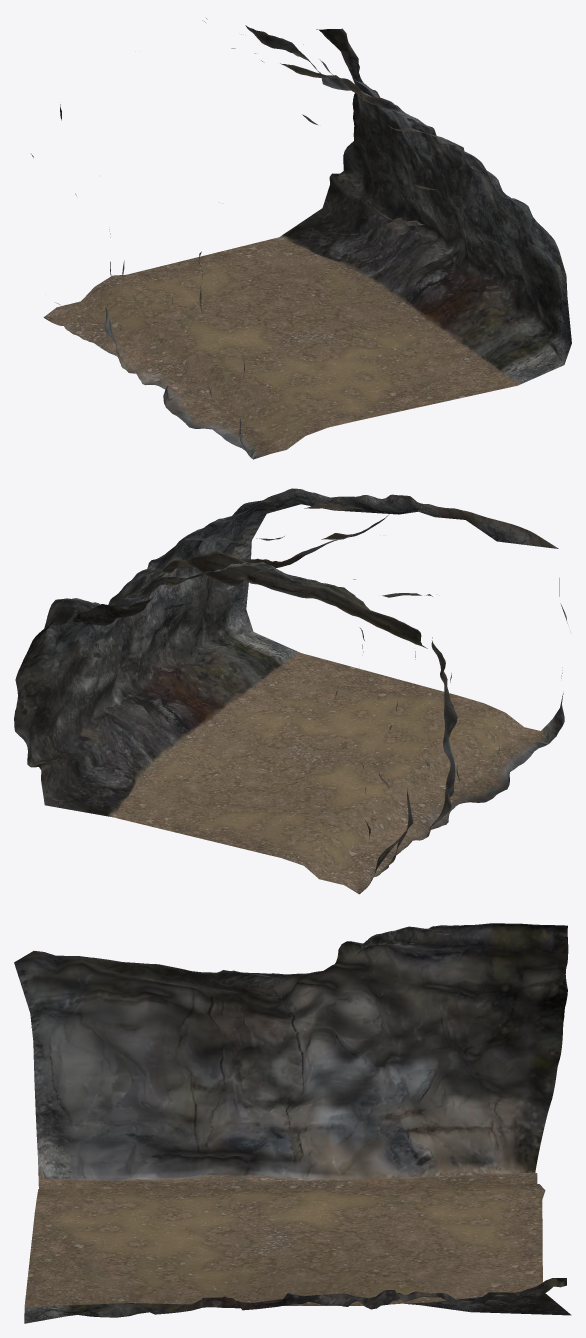
Rendered from TunnelA6.glb.
3 renders of one model, top to bottom at view 1: azimuth 30°, elevation 25°; view 2: azimuth 150°, elevation 25°; view 3: azimuth 270°, elevation 25°, orthographic. The views are drawn at different scales.
Parts seen in each view (by area): view 1: TunnelA6; view 2: TunnelA6; view 3: TunnelA6.
Part boxes in pixels (bbox=[...]): TunnelA6: bbox=[31, 18, 571, 459]; TunnelA6: bbox=[14, 488, 567, 894]; TunnelA6: bbox=[14, 923, 571, 1323].
Bounding box in the file's own units: 4.58 × 3.12 × 5.08.
1 material, 1 textured.
